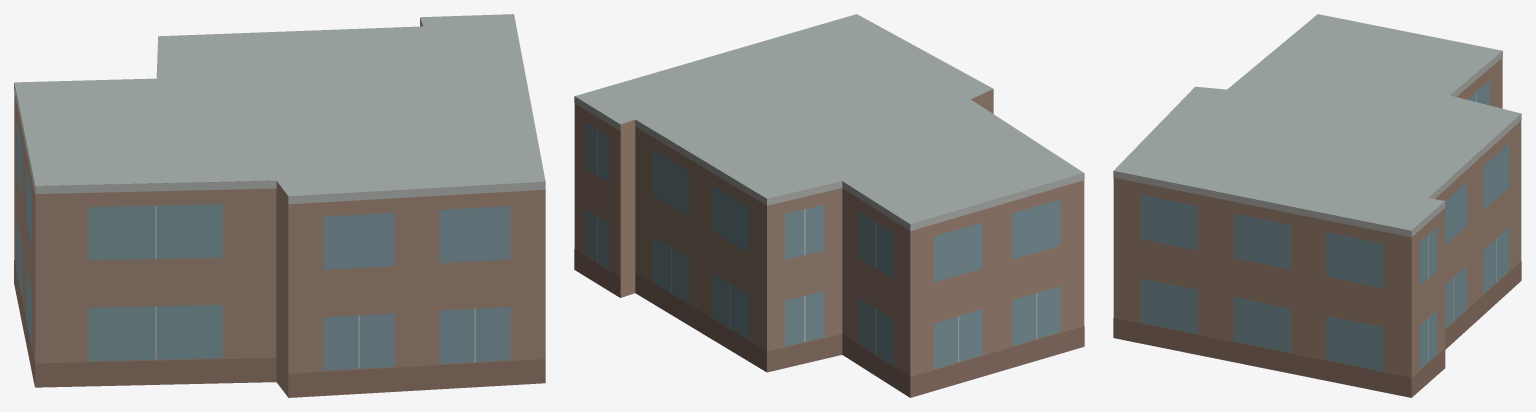
The model's file is survey-upis-32603139.glb.
The picture shows the model from 3 angles, left to right: view 1: azimuth 30°, elevation 25°; view 2: azimuth 150°, elevation 25°; view 3: azimuth 270°, elevation 25°; orthographic projection. The views are drawn at different scales.
Visible parts, largest first — view 1: survey-upis-32603139.tmp; view 2: survey-upis-32603139.tmp; view 3: survey-upis-32603139.tmp.
Boxes of the visible parts, x1=… form: survey-upis-32603139.tmp: x1=14, y1=14, x2=545, y2=397; survey-upis-32603139.tmp: x1=574, y1=14, x2=1084, y2=397; survey-upis-32603139.tmp: x1=1113, y1=14, x2=1521, y2=397.
Bounding box in the file's own units: 16.97 × 6.1 × 13.5.
